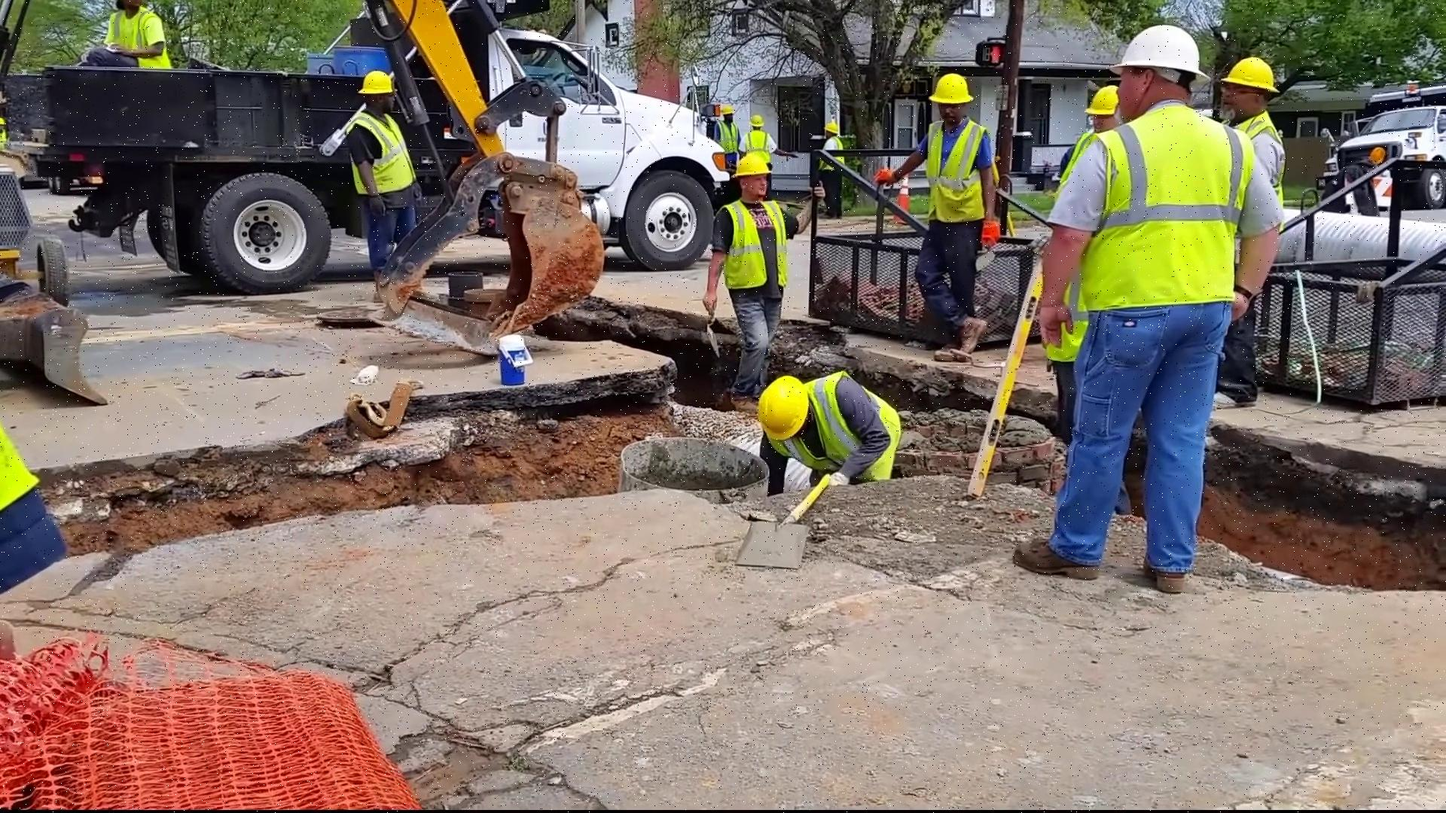Hard_hat: (1107, 18, 1203, 75), (753, 371, 810, 438), (922, 69, 985, 107), (1227, 54, 1280, 99), (1084, 84, 1123, 113), (358, 68, 395, 98)
Vest: (1070, 107, 1264, 312), (902, 118, 1018, 236), (701, 196, 799, 315), (804, 363, 893, 476), (348, 103, 411, 207), (97, 10, 173, 68), (1228, 99, 1290, 148), (715, 122, 736, 161), (743, 136, 769, 166)
